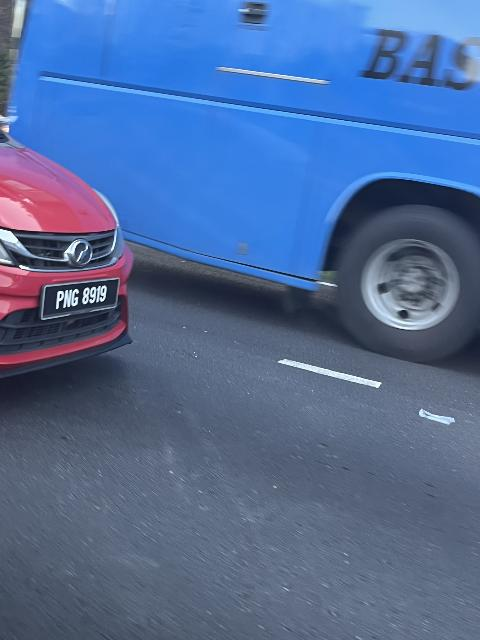License_Plate: (46, 281, 123, 318)
car: (2, 113, 147, 394)
